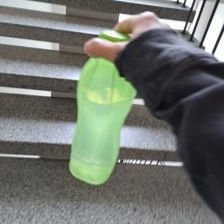bottle: (65, 28, 140, 190)
